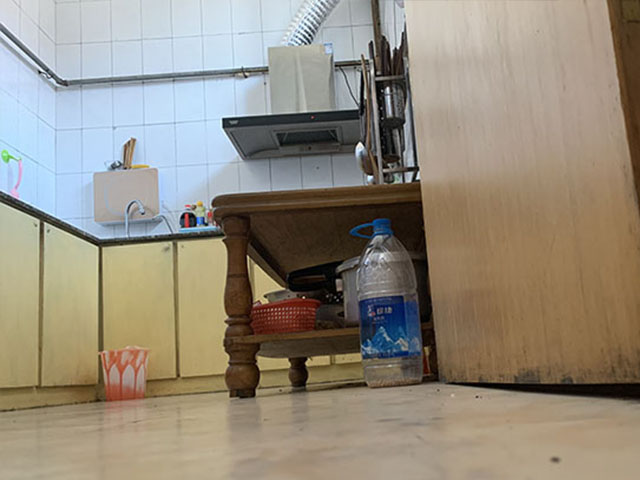cabinet: (1, 188, 98, 411), (101, 225, 225, 396)
table: (210, 177, 435, 400)
trashcan: (95, 342, 153, 401)
